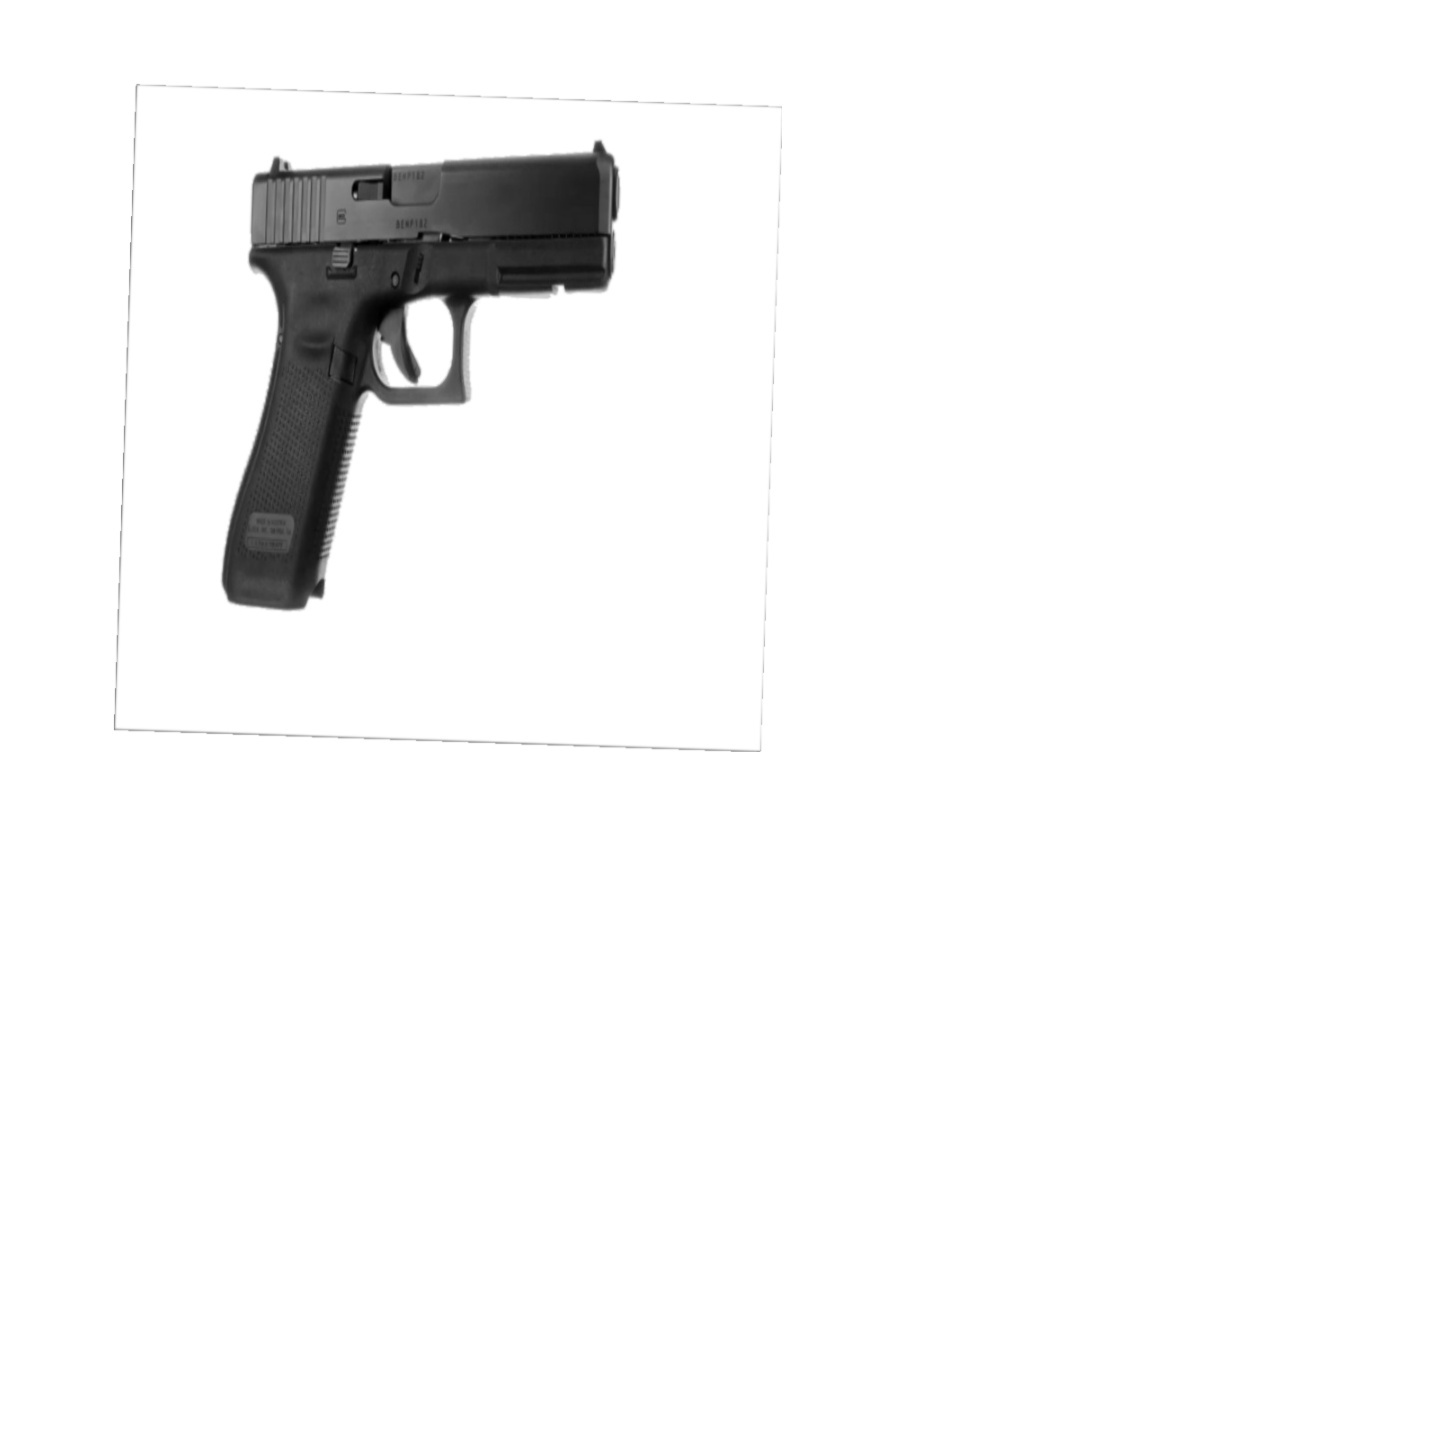gun: (223, 140, 620, 611)
